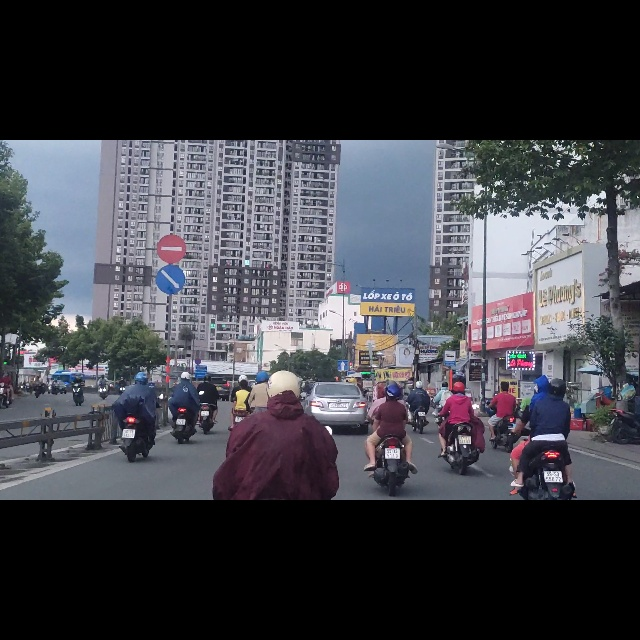bien_chi_dan: (154, 219, 186, 276), (155, 164, 187, 220), (444, 373, 456, 402), (338, 391, 348, 410)
